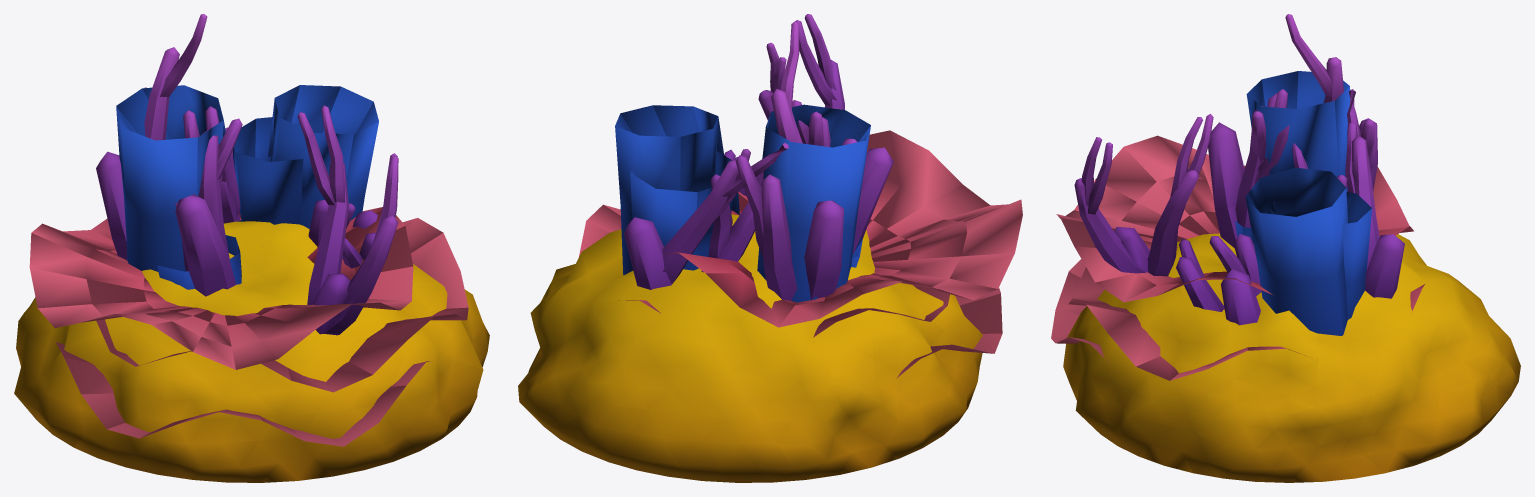
Rendered from reef.glb.
3 renders of one model, left to right at view 1: azimuth 30°, elevation 25°; view 2: azimuth 150°, elevation 25°; view 3: azimuth 270°, elevation 25°, orthographic. The views are drawn at different scales.
Visible parts, largest first — view 1: brain, ruffle, tubes, staghorn; view 2: brain, ruffle, tubes, staghorn; view 3: brain, staghorn, tubes, ruffle.
Part boxes in pixels (bbox=[...]): brain: bbox=[14, 221, 489, 482]; ruffle: bbox=[29, 207, 468, 446]; tubes: bbox=[116, 85, 378, 289]; staghorn: bbox=[96, 14, 398, 335]; brain: bbox=[518, 214, 982, 482]; ruffle: bbox=[579, 130, 1022, 378]; tubes: bbox=[615, 104, 870, 302]; staghorn: bbox=[624, 14, 893, 300]; brain: bbox=[1063, 233, 1520, 482]; staghorn: bbox=[1074, 14, 1404, 325]; tubes: bbox=[1235, 71, 1371, 335]; ruffle: bbox=[1051, 135, 1424, 380].
Bounding box in the file's own units: 0.7049 × 0.6728 × 0.7081.
